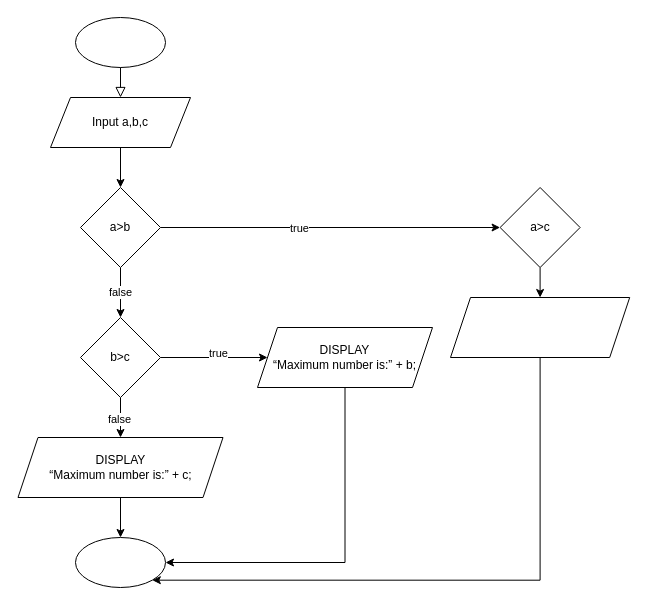
This 647x606 diagram has some shape labels left out. The shapes that lost their labels are listed below. From the top down, each one's box as (x1, y1, x2, y2) in pixels, then its label:
(74, 16, 166, 68): BEGIN
(450, 296, 630, 358): DISPLAY “Maximum number is:” + a;
(74, 536, 166, 588): END
